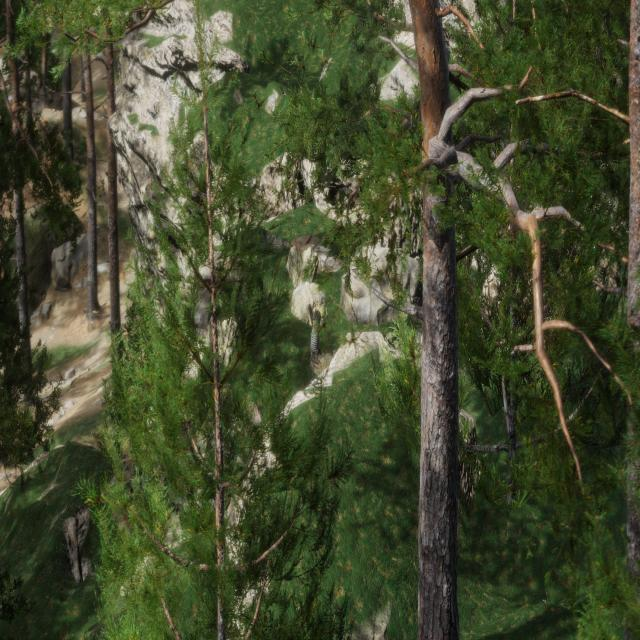Human: (301, 298, 327, 382)
